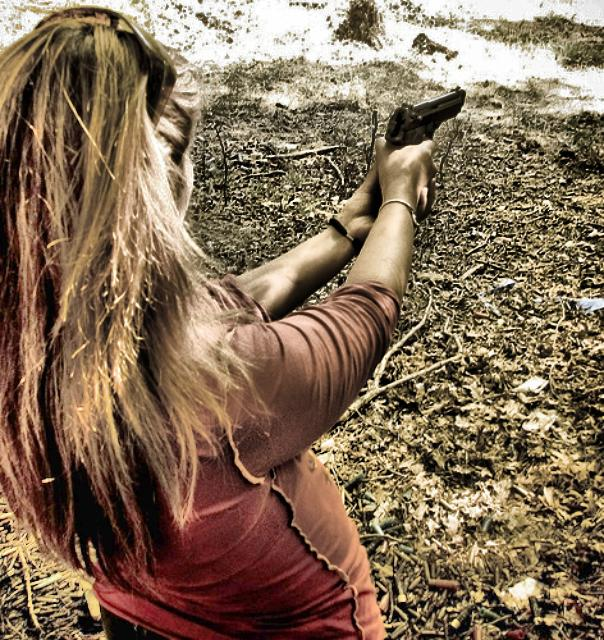pistol: (383, 85, 463, 151)
